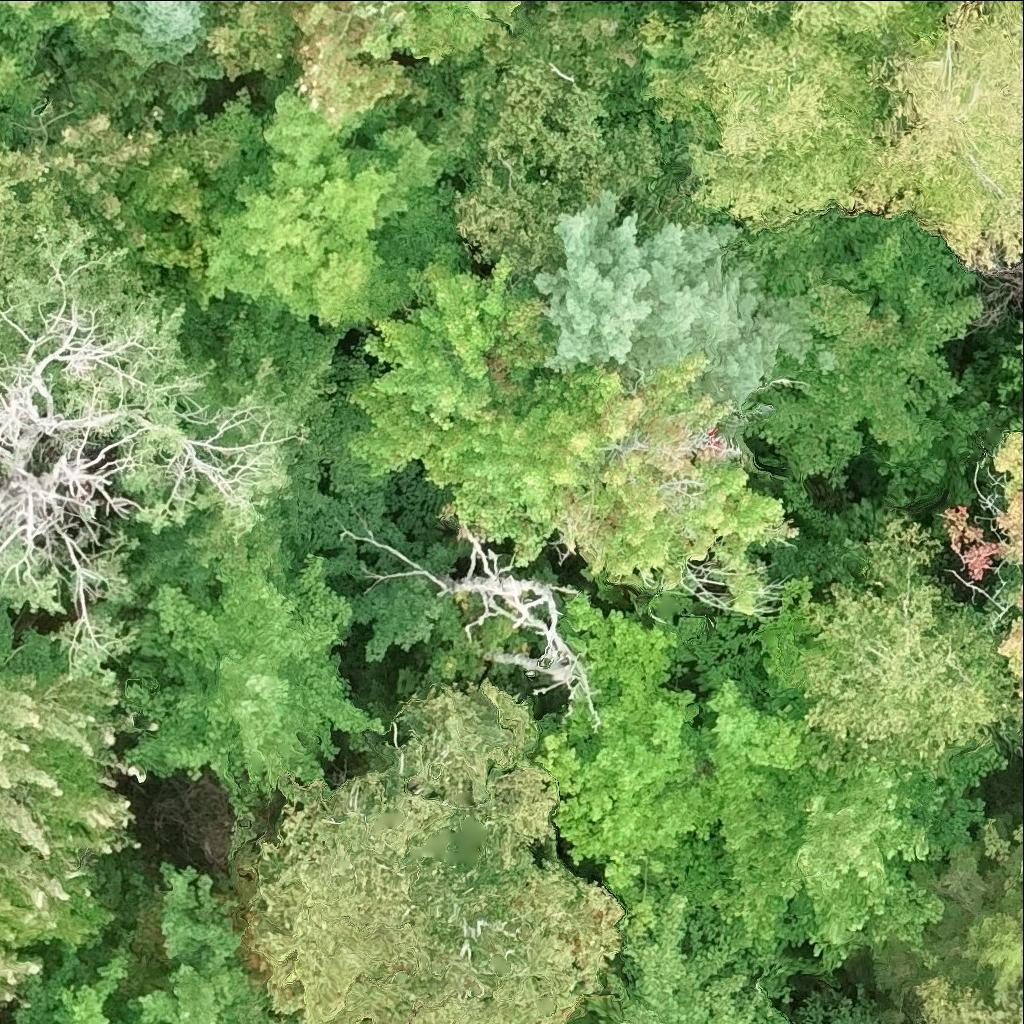crown: (0, 225, 309, 681), (250, 684, 627, 1023), (349, 259, 605, 562), (525, 591, 724, 971), (729, 206, 984, 489), (118, 546, 386, 797), (689, 577, 857, 976), (0, 606, 161, 1007), (556, 349, 798, 615), (193, 90, 457, 324), (537, 192, 810, 415), (784, 717, 1007, 975), (642, 0, 882, 234), (807, 520, 1023, 773), (830, 0, 1023, 269), (0, 78, 208, 272), (434, 523, 589, 701), (135, 869, 311, 1023), (877, 836, 1023, 1015), (592, 895, 791, 1023), (287, 5, 422, 127), (876, 367, 995, 505), (99, 0, 223, 130), (771, 501, 907, 601), (0, 0, 114, 109), (342, 0, 526, 64), (205, 0, 343, 76), (0, 148, 74, 284), (954, 435, 1023, 578), (19, 948, 132, 1023), (913, 972, 1023, 1023), (793, 0, 908, 36), (996, 320, 1023, 404), (999, 614, 1023, 687), (987, 820, 1023, 866), (748, 0, 780, 8), (1016, 978, 1023, 1004), (132, 1018, 148, 1023), (1020, 859, 1023, 881), (1022, 589, 1023, 604), (739, 411, 742, 415), (602, 1022, 611, 1023), (1023, 394, 1023, 394)
